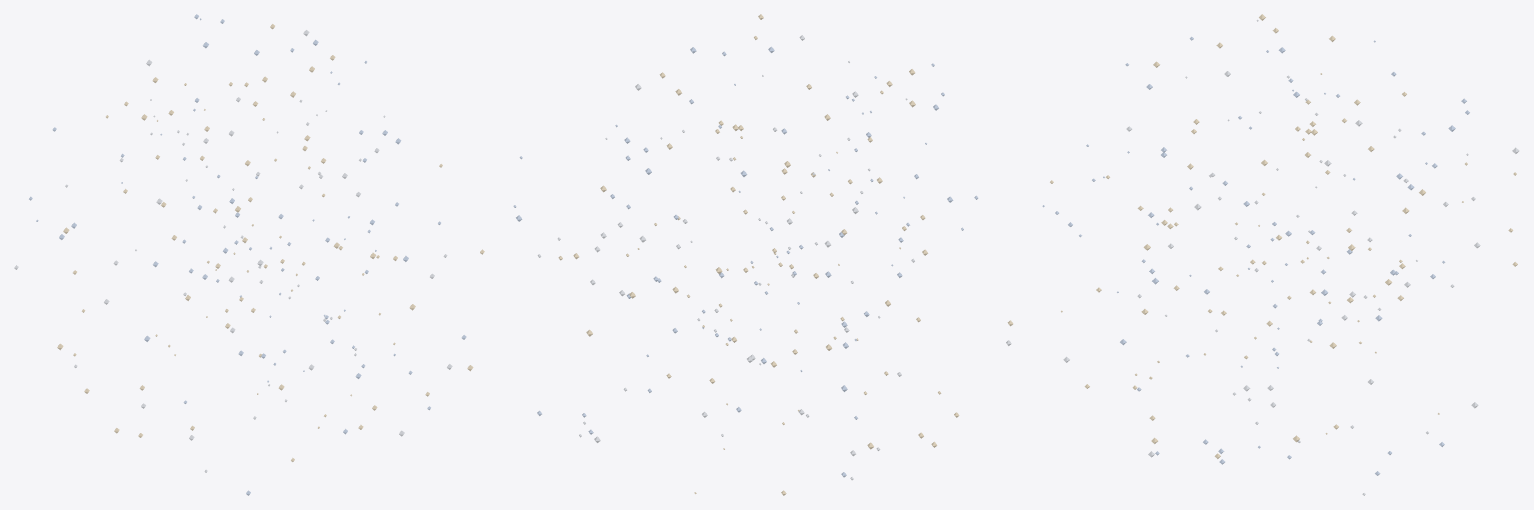
The picture shows the model from 3 angles, left to right: view 1: azimuth 30°, elevation 25°; view 2: azimuth 150°, elevation 25°; view 3: azimuth 270°, elevation 25°; orthographic projection. The views are drawn at different scales.
Size of the model in its own units: 4.5 by 5.07 by 4.85.
